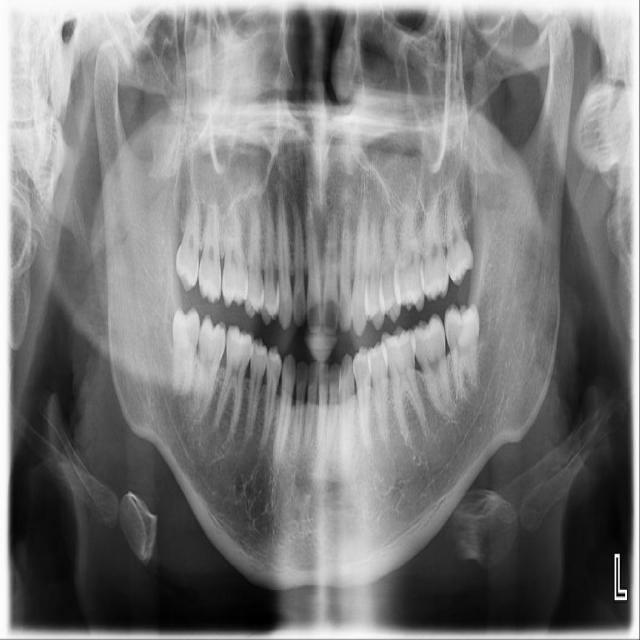impacted tooth: (445, 305, 483, 392), (173, 311, 201, 398)
